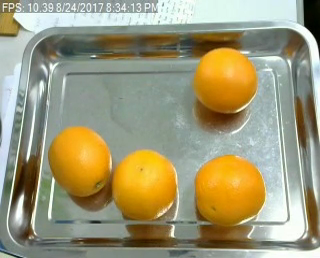Orange: (194, 155, 266, 224), (110, 149, 178, 220), (49, 125, 113, 198), (194, 47, 257, 113)
